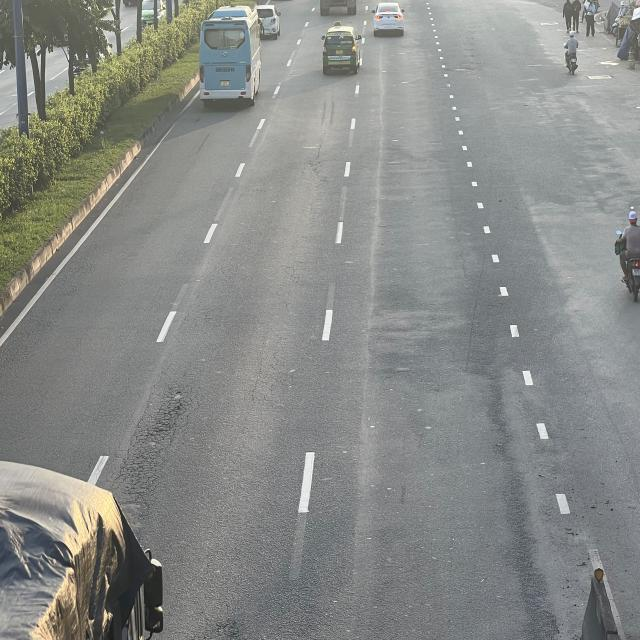car: (322, 25, 363, 73), (372, 3, 407, 37), (258, 5, 282, 40)
coach: (200, 4, 260, 102)
